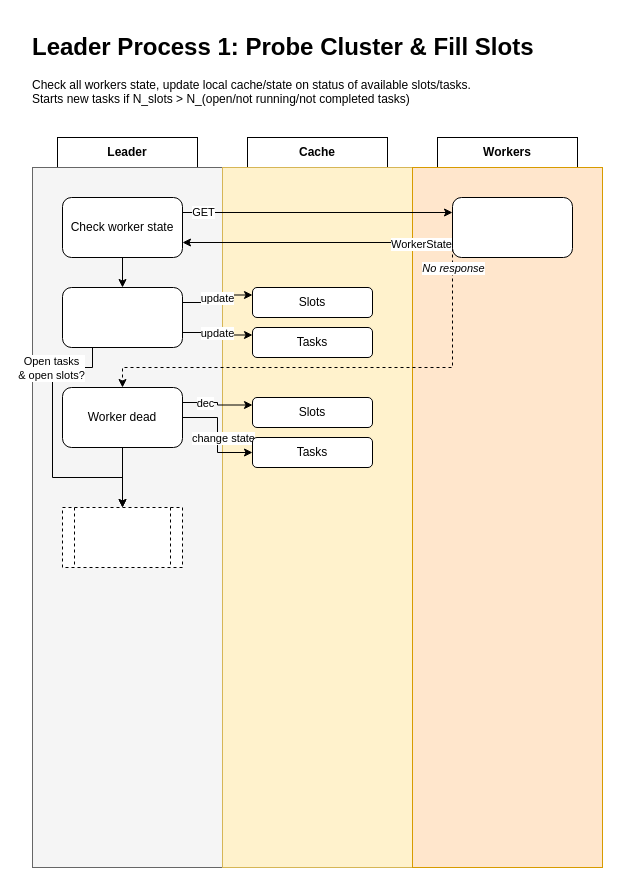
This 620x885 diagram has some shape labels left out. The box of each missing label's shape, as (x1, y1, x2, y2) in pixels:
GET /worker/state: (452, 196, 572, 258)
Store state: (62, 286, 182, 348)
Try Start Task: (62, 506, 182, 568)
